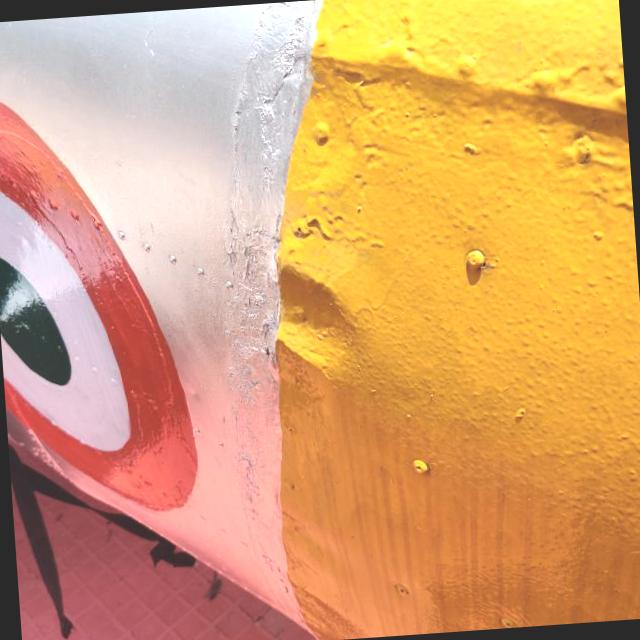dent: (228, 235, 386, 411)
